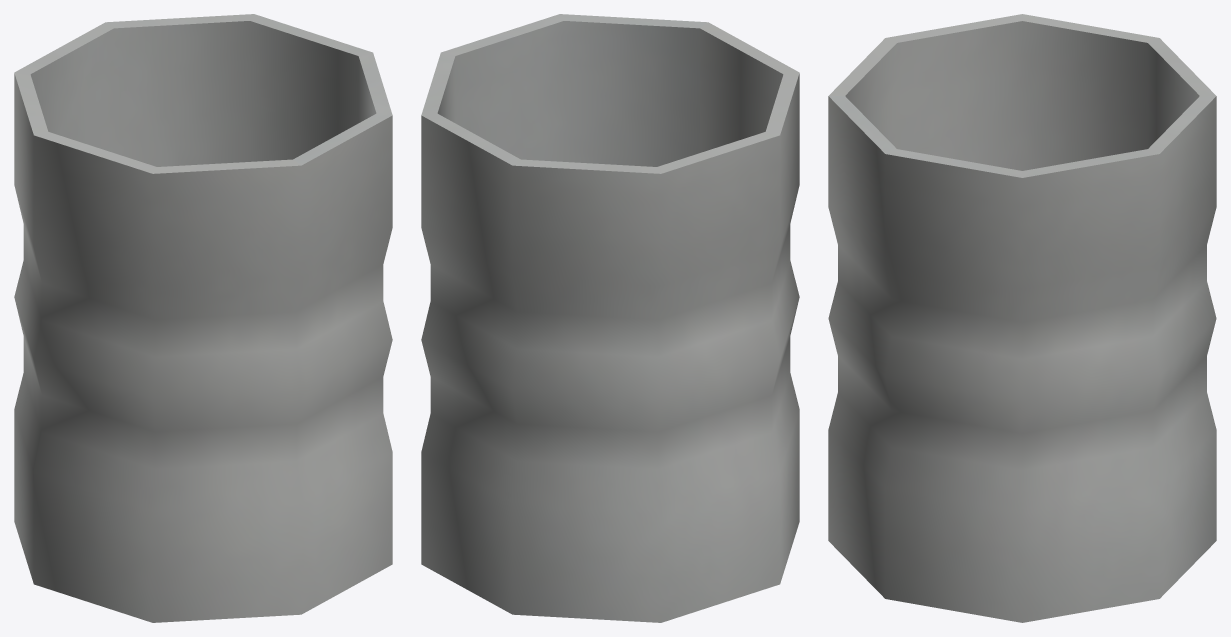
Rendered from metal can.fbx.
3 views of the same model, side by side, from view 1: azimuth 30°, elevation 25°; view 2: azimuth 150°, elevation 25°; view 3: azimuth 270°, elevation 25° (orthographic).
Visible parts, largest first — view 1: metal_can; view 2: metal_can; view 3: metal_can.
Part boxes in pixels (<box>): metal_can: <box>14,14,392,622</box>; metal_can: <box>421,14,799,622</box>; metal_can: <box>828,14,1216,622</box>.
Bounding box in the file's own units: 0.1437 × 0.1818 × 0.1437.
